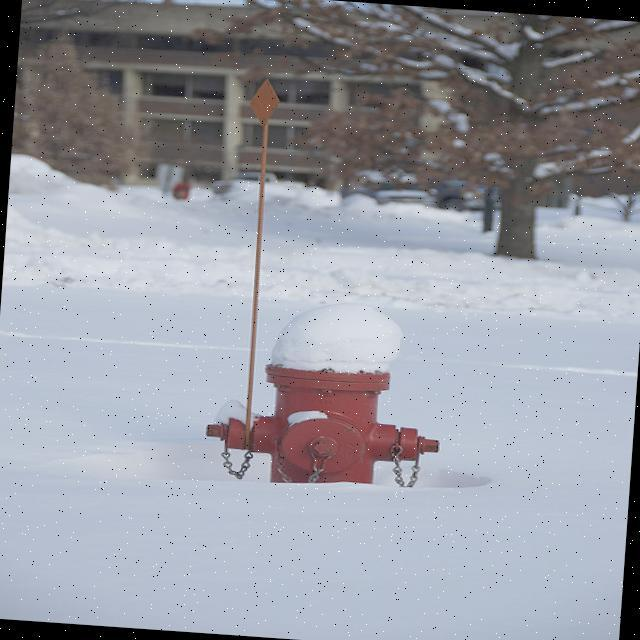fire_hydrant: (182, 294, 455, 504)
